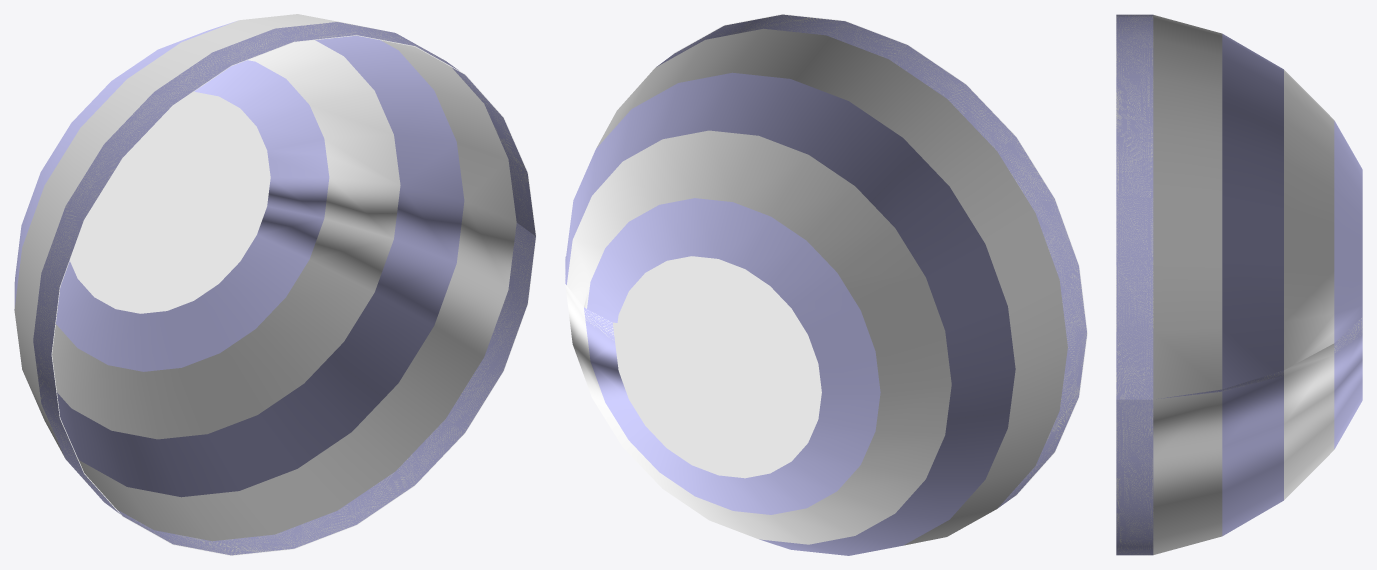
The model's file is model_scale.obj.
3 renders of one model, left to right at view 1: azimuth 30°, elevation 25°; view 2: azimuth 150°, elevation 25°; view 3: azimuth 270°, elevation 25°, orthographic. The views are drawn at different scales.
Parts seen in each view (by area): view 1: mesh1_mesh1-geometry; view 2: mesh1_mesh1-geometry; view 3: mesh1_mesh1-geometry.
Boxes of the visible parts, x1,y1,x2,y2 form: mesh1_mesh1-geometry: (14, 14, 536, 555); mesh1_mesh1-geometry: (565, 14, 1087, 555); mesh1_mesh1-geometry: (1116, 14, 1362, 555).
Size of the model in its own units: 0.1581 by 0.1581 by 0.0716.
